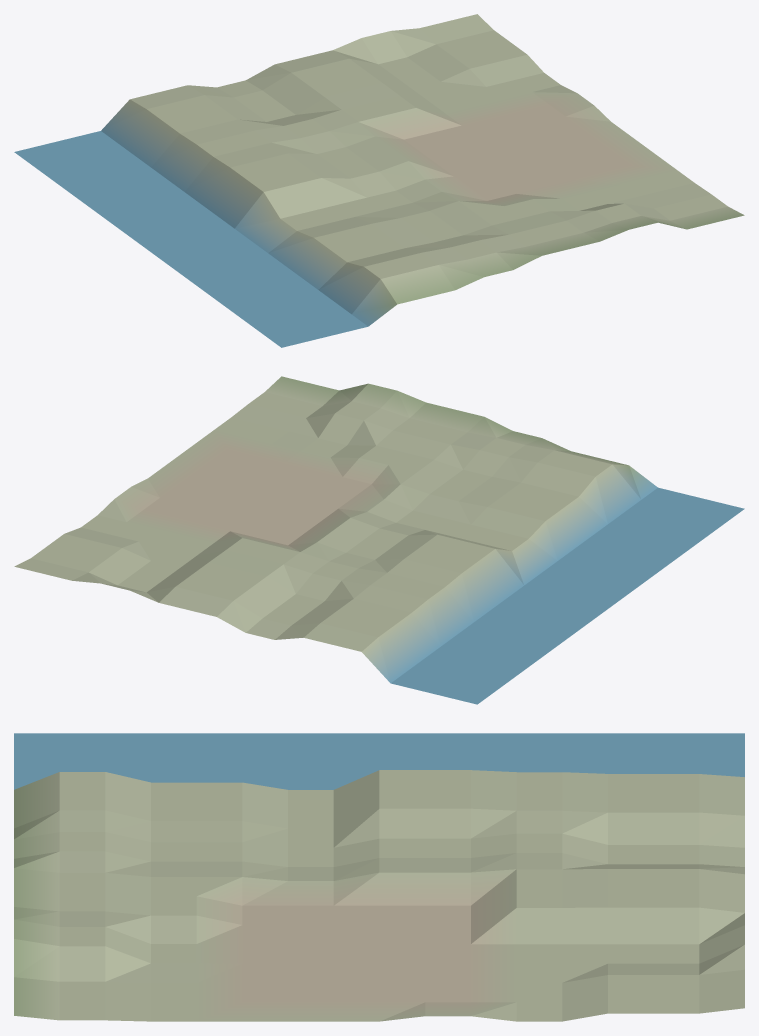
The picture shows the model from 3 angles, top to bottom: view 1: azimuth 30°, elevation 25°; view 2: azimuth 150°, elevation 25°; view 3: azimuth 270°, elevation 25°; orthographic projection. The views are drawn at different scales.
Size of the model in its own units: 32 by 2.2 by 32.
